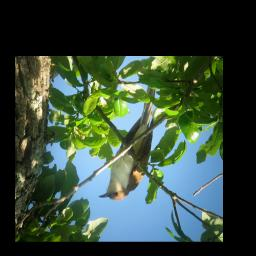Cuckoo: (96, 81, 158, 202)
